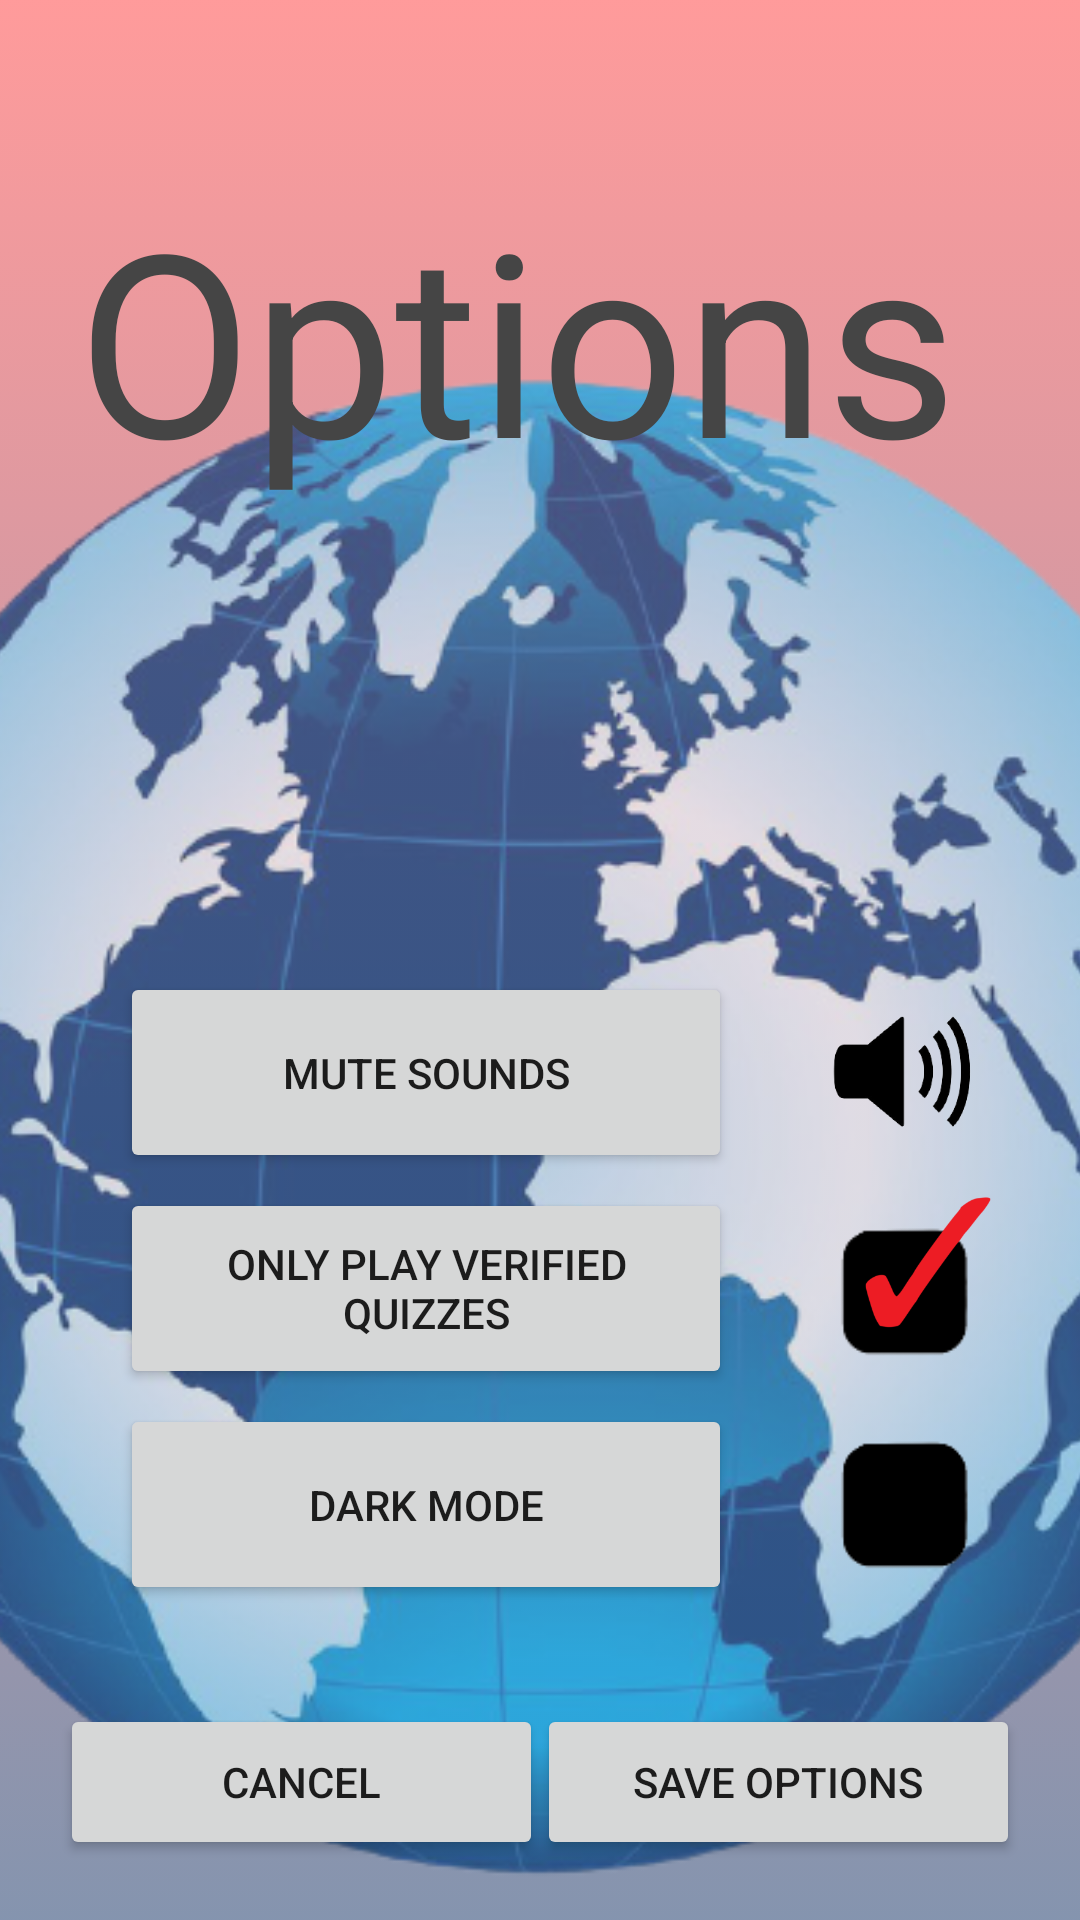

Screen size 1080 x 1920. Icon name, then its center in pixels as point (x, y):
Sound icon: point (902, 1069)
